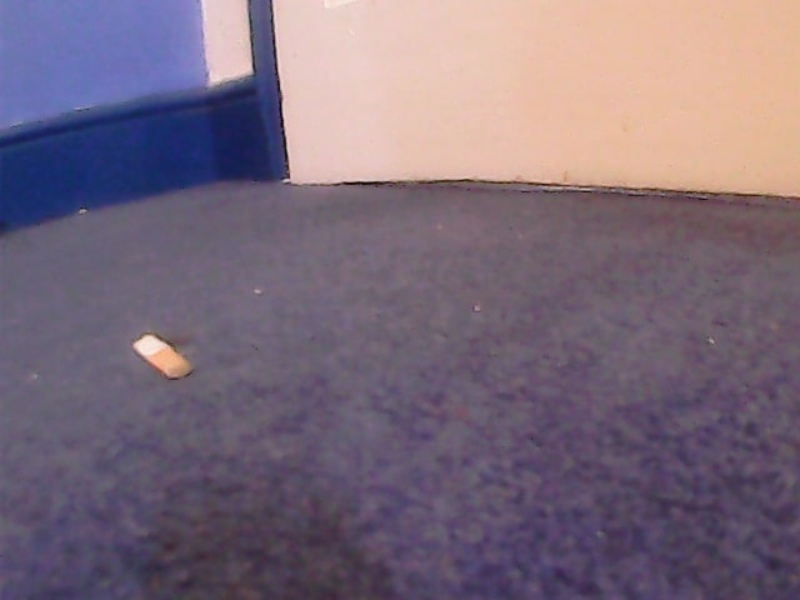cig: (127, 330, 194, 383)
